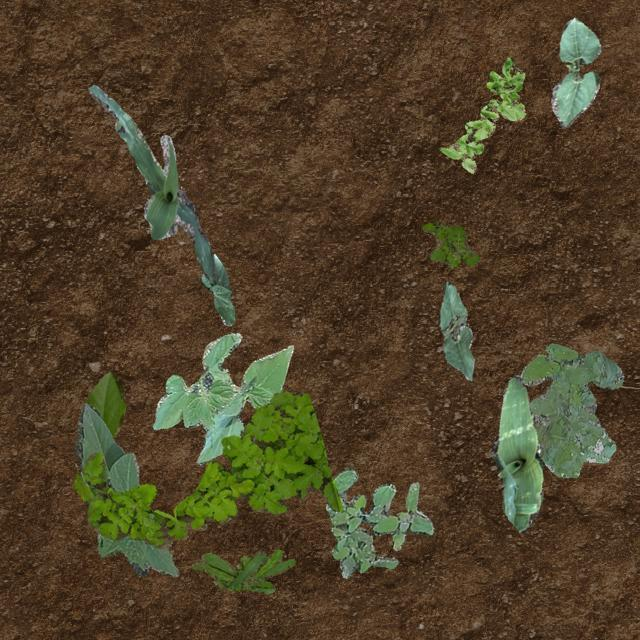crop: (88, 84, 214, 278), (152, 332, 292, 464), (74, 402, 178, 576), (491, 374, 542, 532), (72, 370, 124, 508), (550, 17, 600, 128), (438, 280, 474, 380), (200, 252, 234, 324)
weed: (80, 390, 340, 548), (520, 342, 622, 477), (324, 467, 432, 578), (438, 56, 524, 172), (190, 548, 294, 592), (421, 222, 478, 268)
